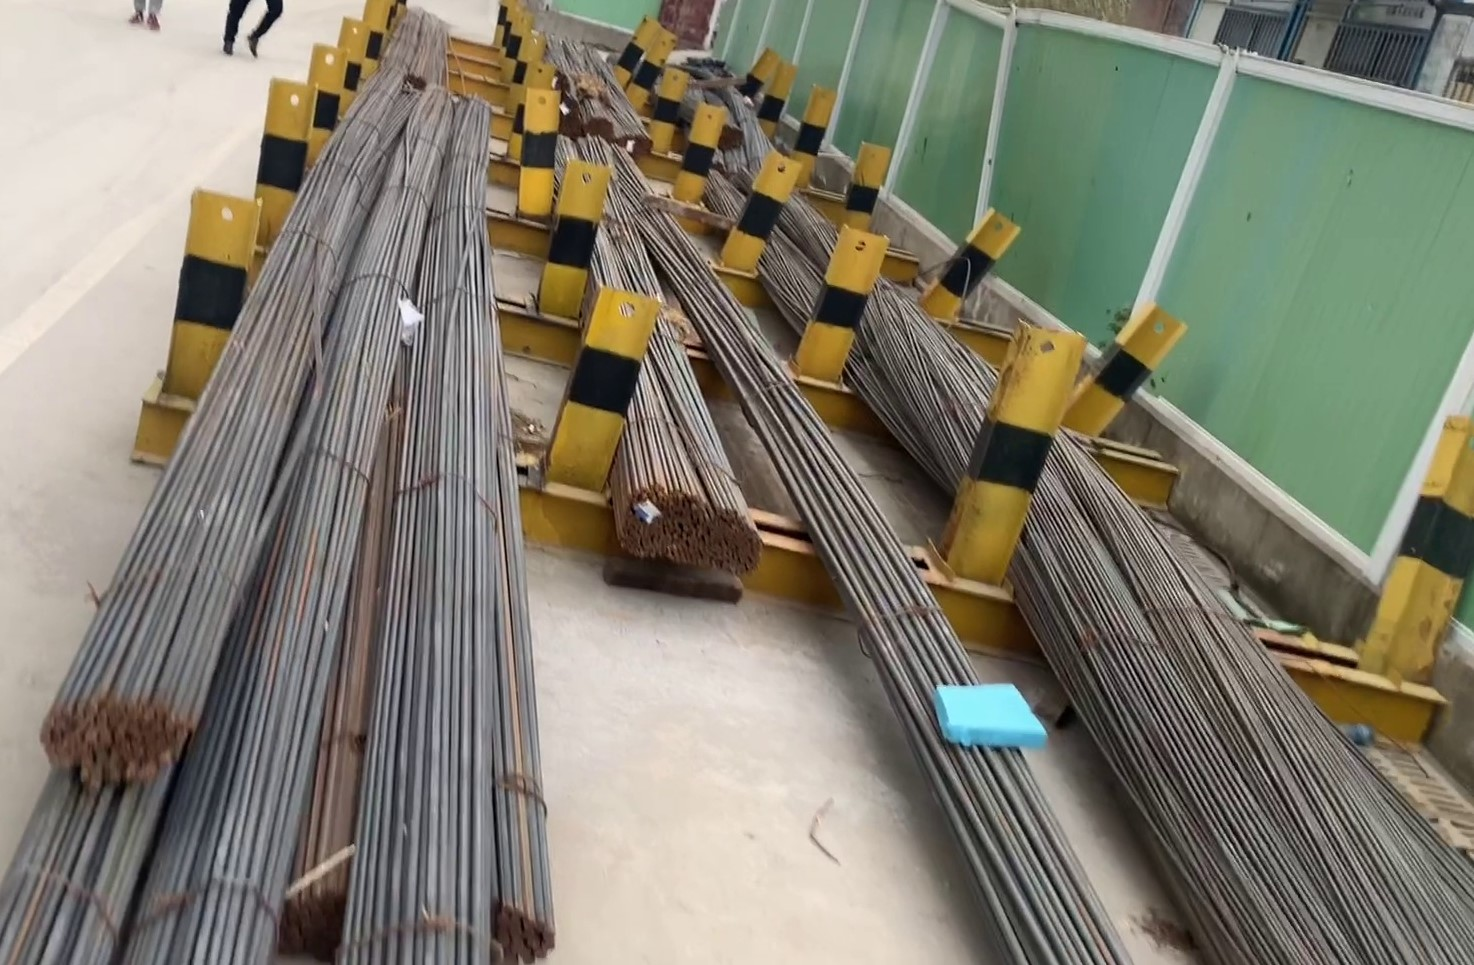rebar: (610, 478, 768, 581), (24, 690, 195, 783), (265, 862, 355, 965), (474, 877, 562, 965)
